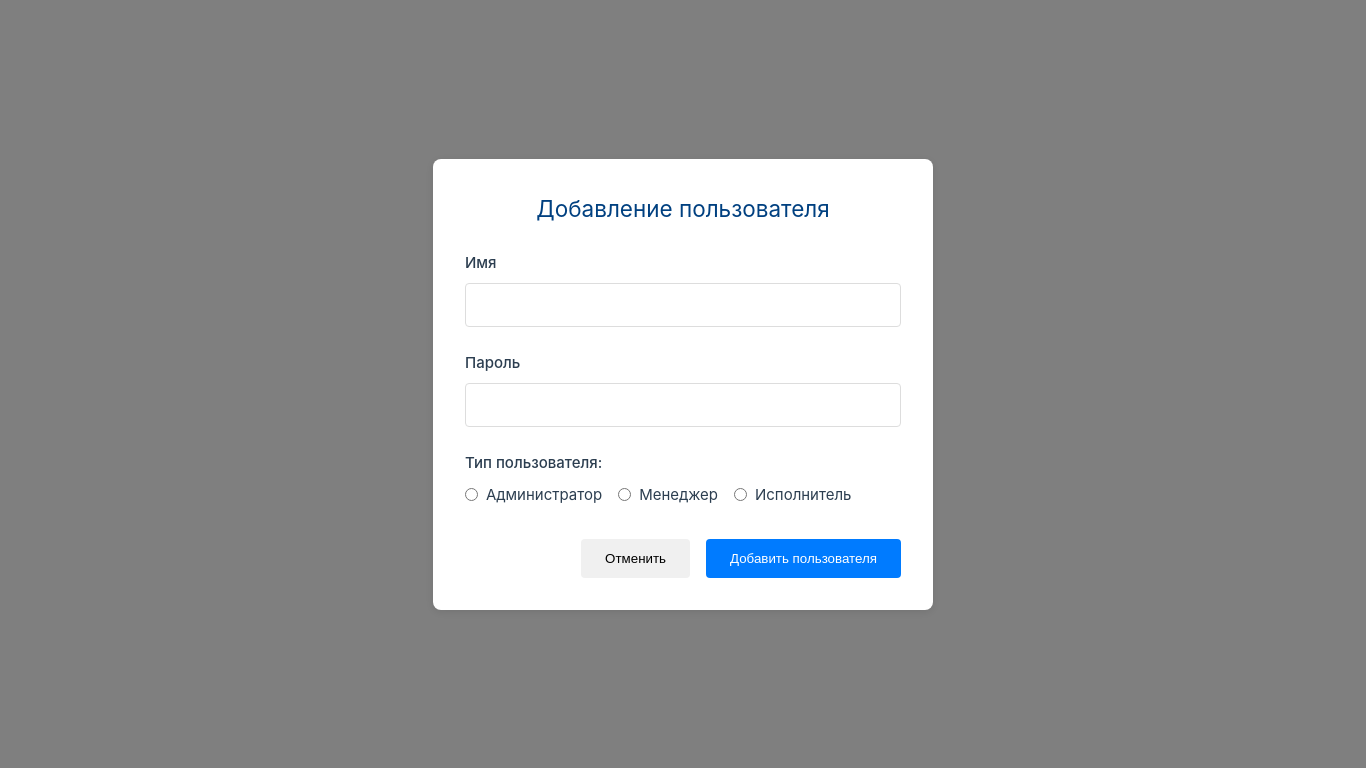
Scenario: UserModal.vue › показывает блок компетенций только для исполнителя
The image size is (1366, 768).
# Выбираем исполнителя
Click the radio button labelled "Исполнитель": (740, 494) [734,488,747,501]
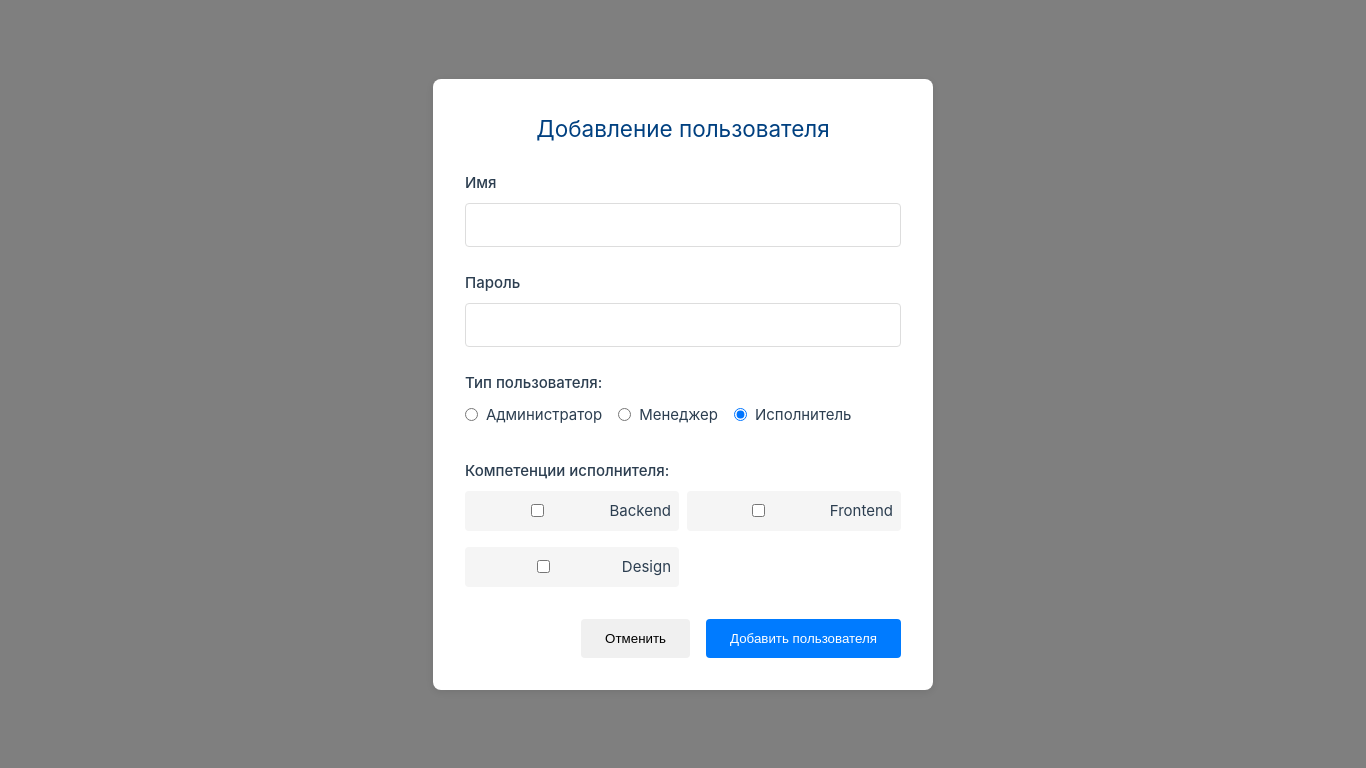
Expected: the element with class "competencies-list" is shown, [465,490,901,594]
Expected: the number of labels with class "competency-option" is 3, [465,490,679,530]; [687,490,901,530]; [465,546,679,586]
